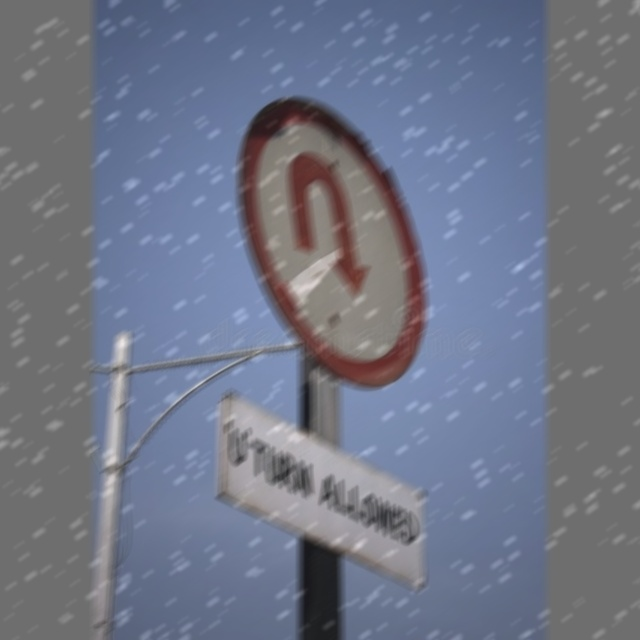U_Turn_Ahead: (242, 83, 447, 390)
